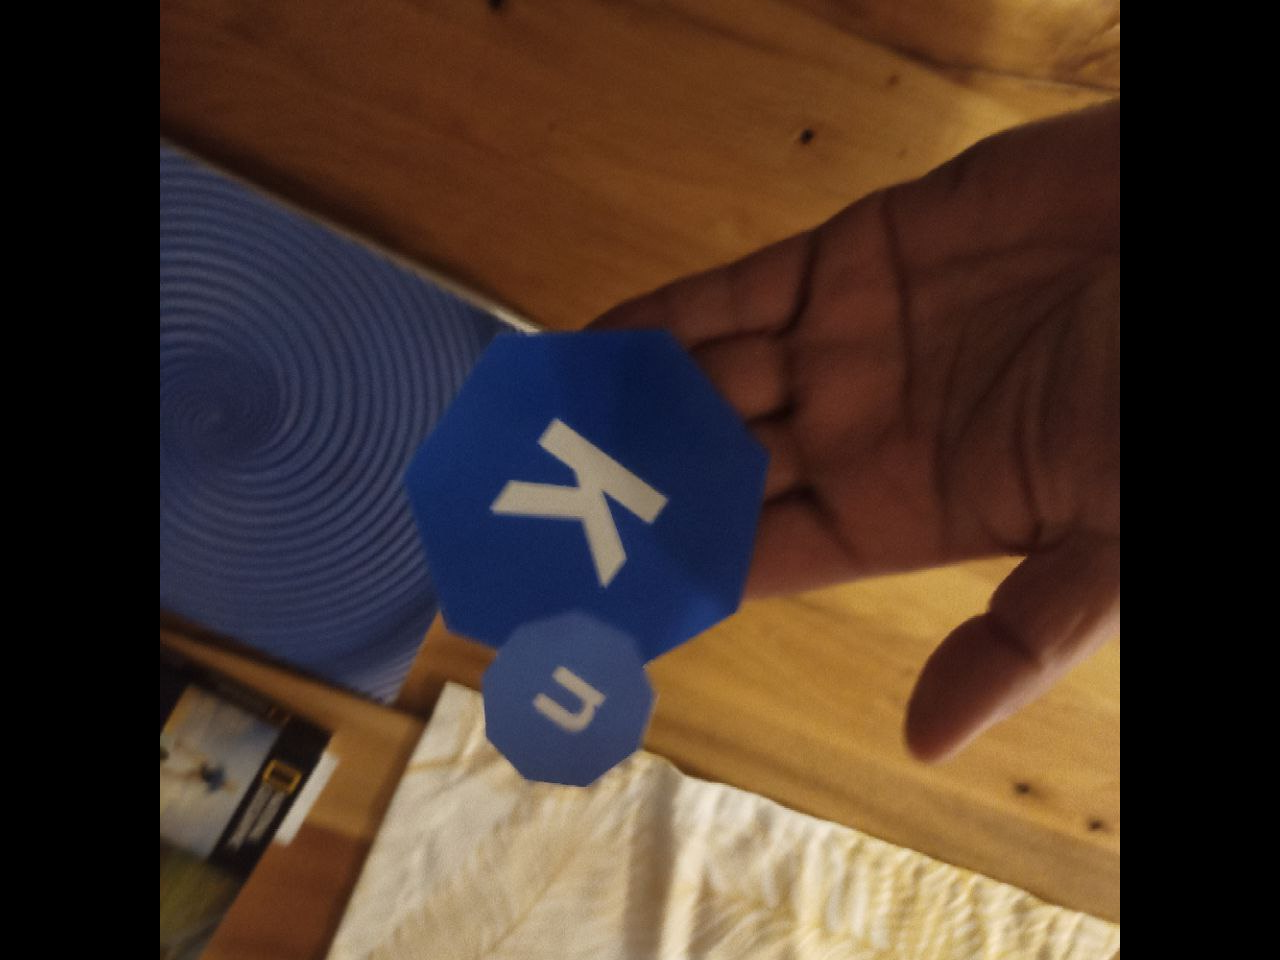knative: (406, 325, 774, 786)
